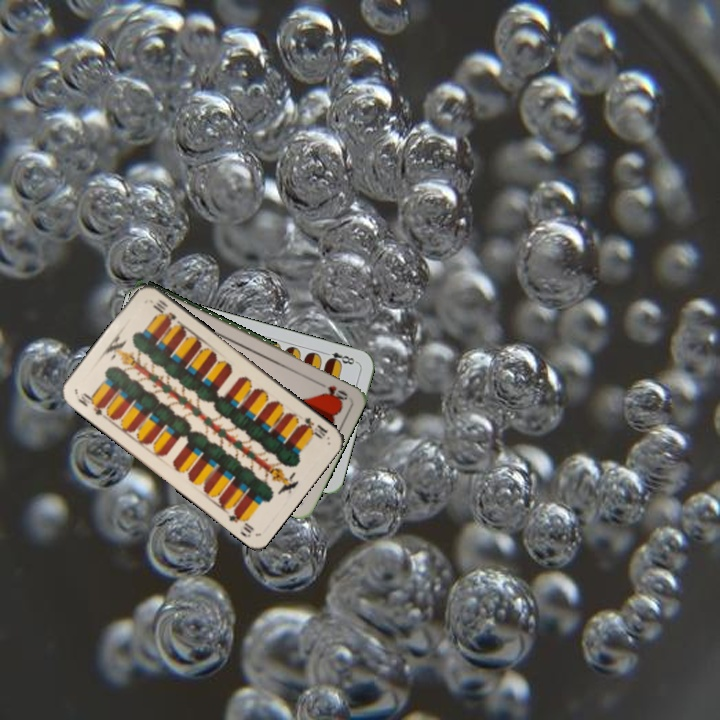E10: (72, 389, 111, 420), (297, 413, 330, 442)
E8: (320, 348, 360, 367)
HO: (313, 377, 350, 403)
